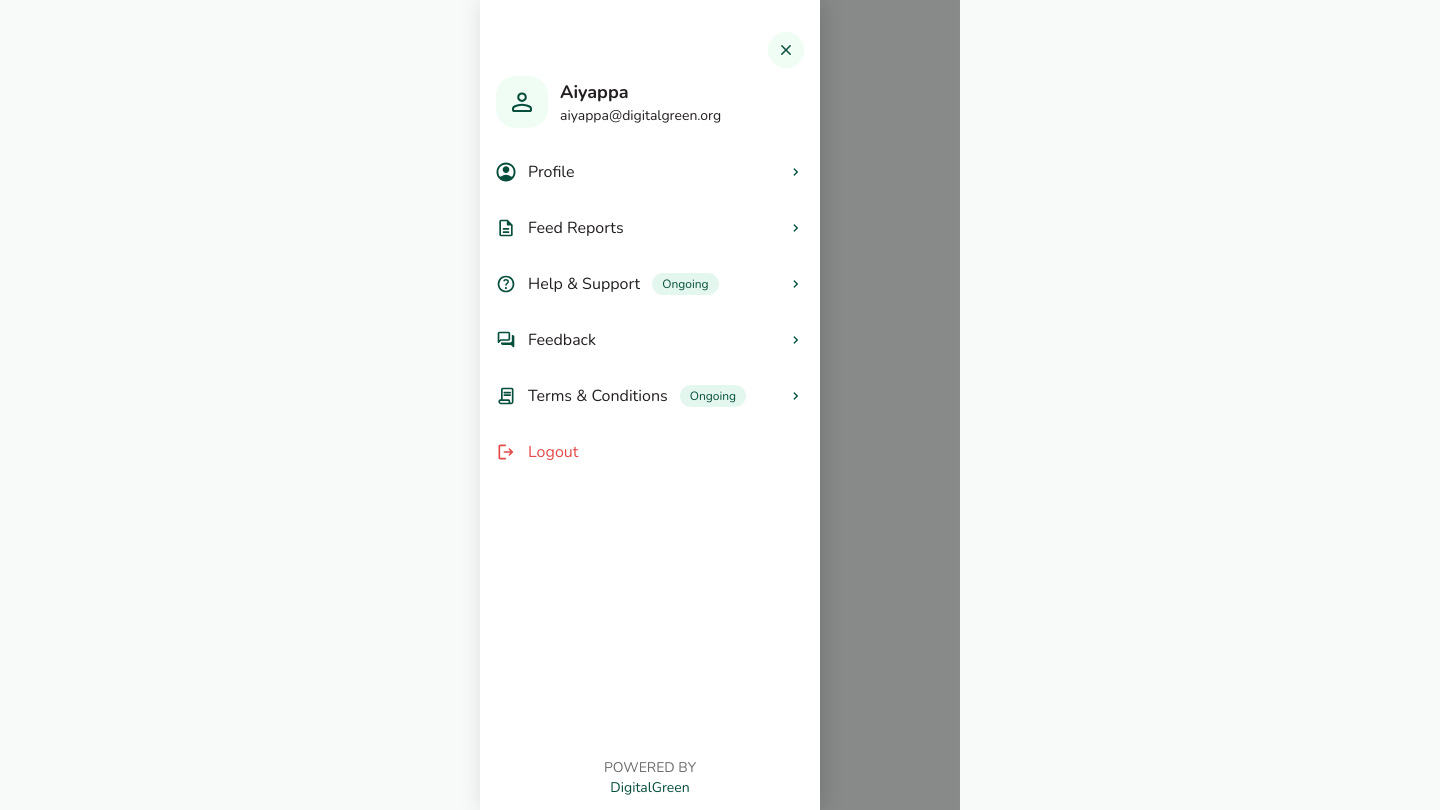
Test: NavDrawer › dismissing the confirm dialog ('No') does not log out
The width and height of the screenshot is (1440, 810).
Click the button "Logout".
click(553, 452)  # box x1=480 y1=424 x2=820 y2=480
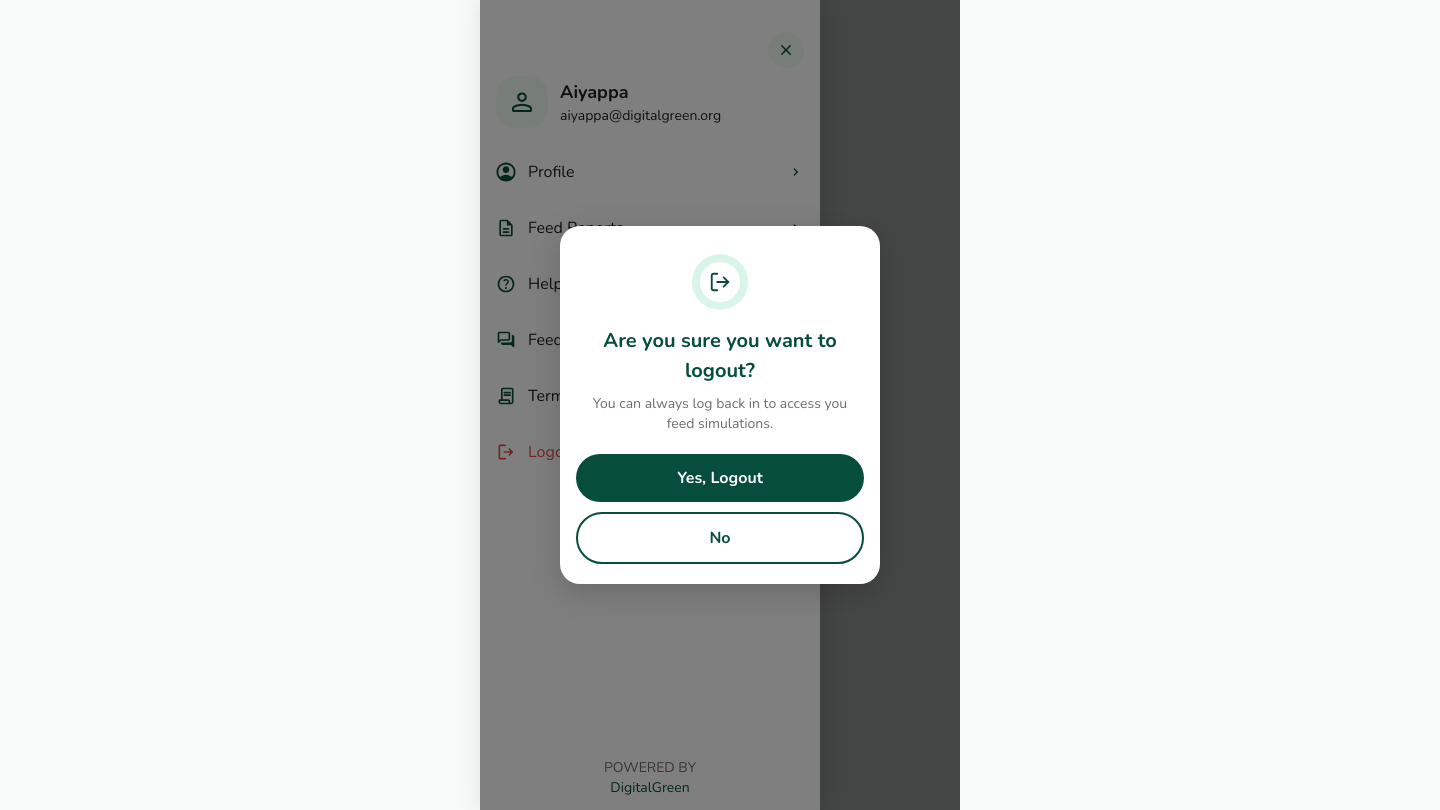
Click the button "No".
click(720, 538)  # box x1=576 y1=512 x2=864 y2=564
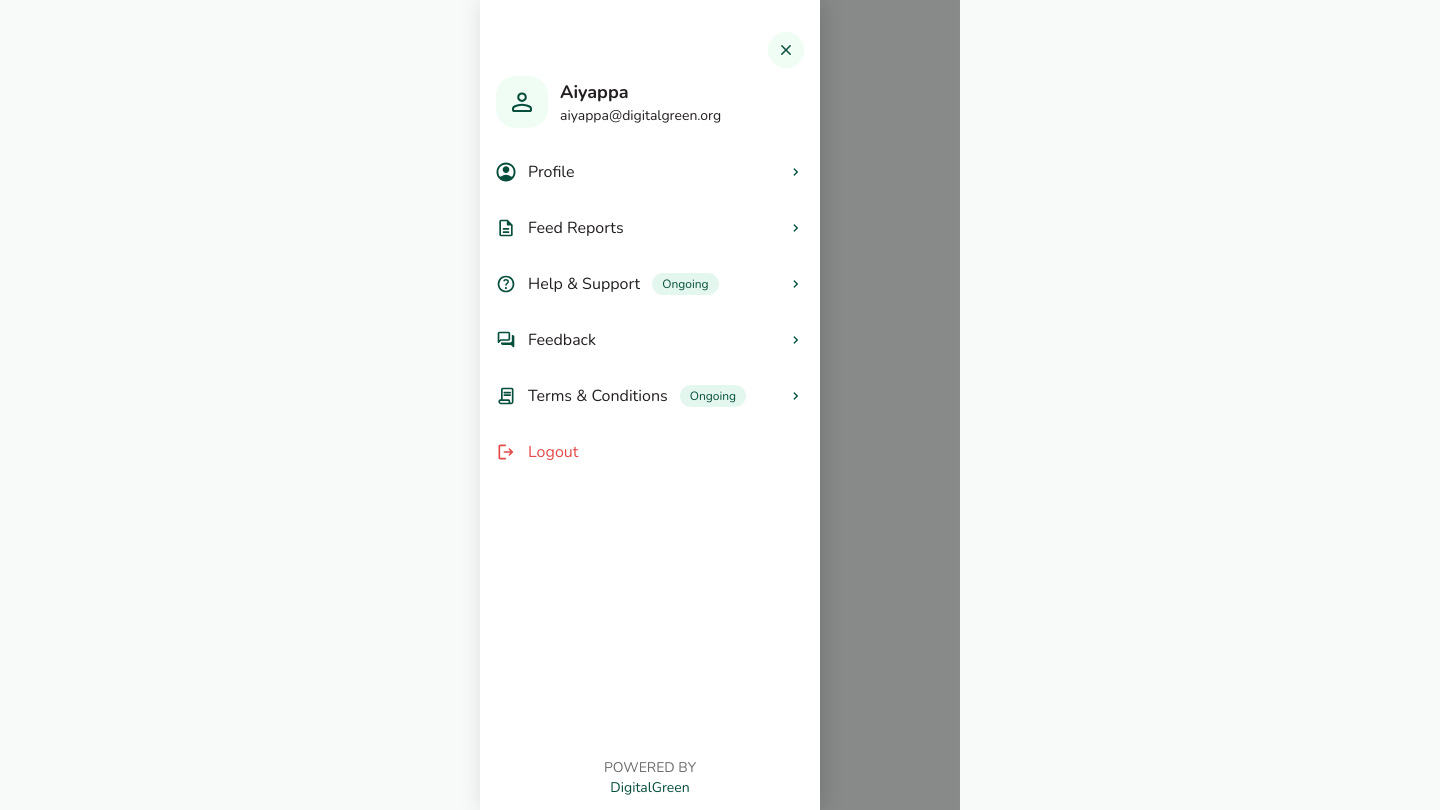
Expected: the heading "Are you sure you want to logout?" is gone
